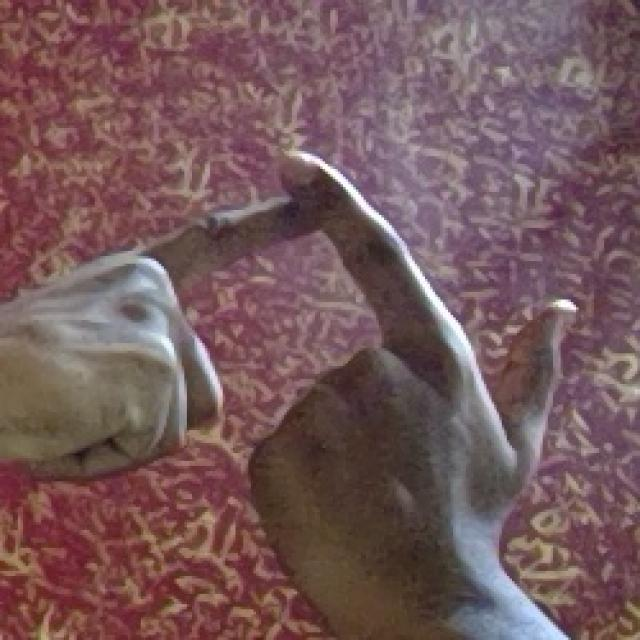Alphabet-J: (37, 126, 587, 604)
